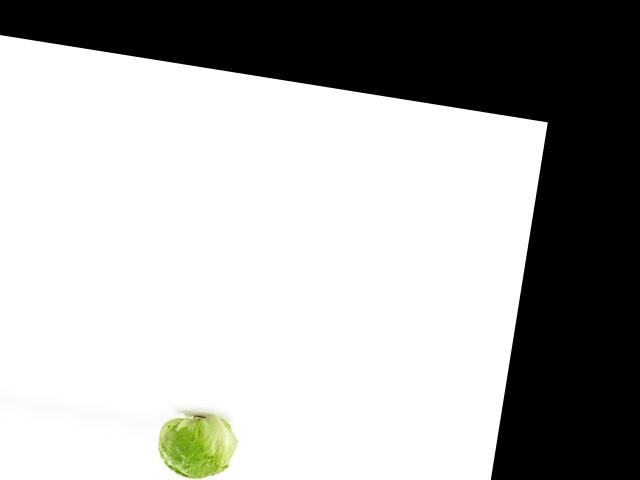lettuce: (143, 410, 240, 480)
